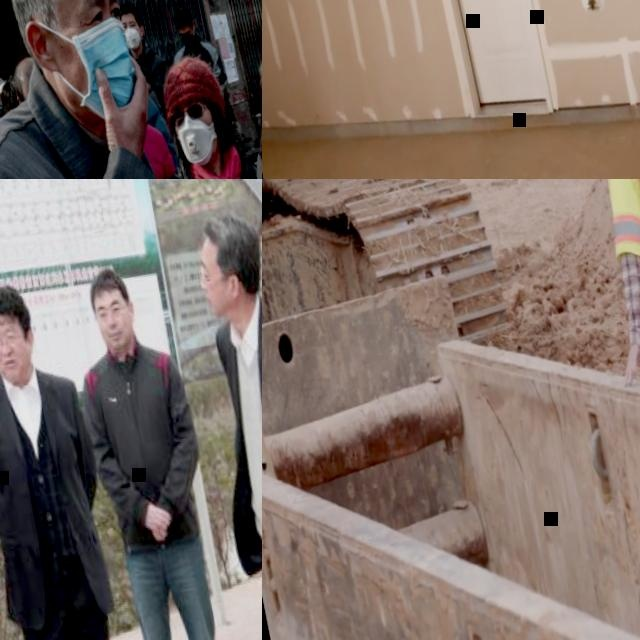Mask: (63, 15, 144, 129), (172, 113, 218, 171), (121, 26, 142, 52), (179, 32, 195, 50), (0, 101, 5, 116)
NO-Hardhat: (155, 53, 224, 115), (197, 208, 262, 267), (86, 265, 129, 301), (0, 280, 29, 327), (12, 55, 38, 95), (0, 77, 22, 103), (169, 3, 192, 27), (117, 0, 138, 17)
NO-Mask: (100, 320, 136, 355), (0, 348, 31, 383), (204, 285, 236, 318)
NO-Safety Vest: (0, 370, 109, 620), (0, 82, 244, 179), (87, 347, 197, 544), (212, 304, 262, 556), (134, 58, 165, 105)
Person: (57, 256, 255, 640), (0, 271, 151, 640), (190, 200, 262, 640), (558, 179, 640, 417)
Safety Vest: (592, 179, 640, 319)
machinery: (262, 179, 517, 407)
